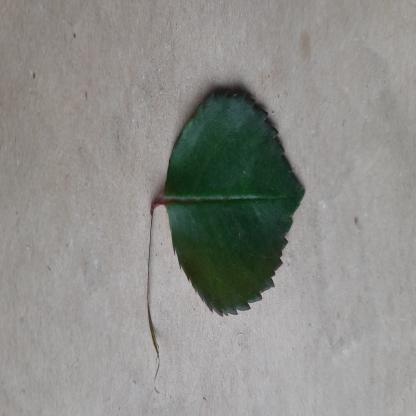normal: (165, 90, 306, 322)
